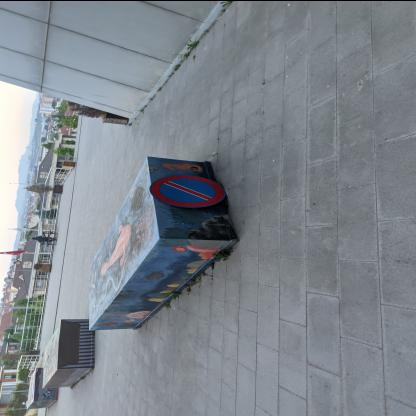No Waiting: (150, 176, 228, 208)
